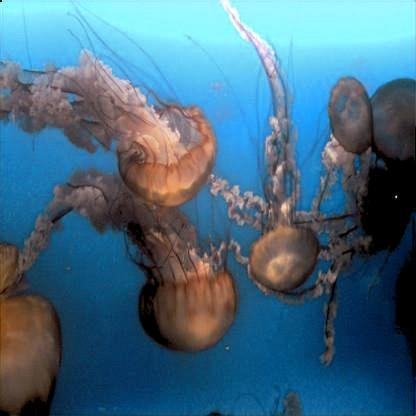Dressed: (23, 177, 239, 353), (4, 51, 218, 205), (311, 70, 411, 368), (220, 6, 317, 290), (223, 78, 364, 227), (1, 291, 60, 411), (0, 228, 28, 294)
